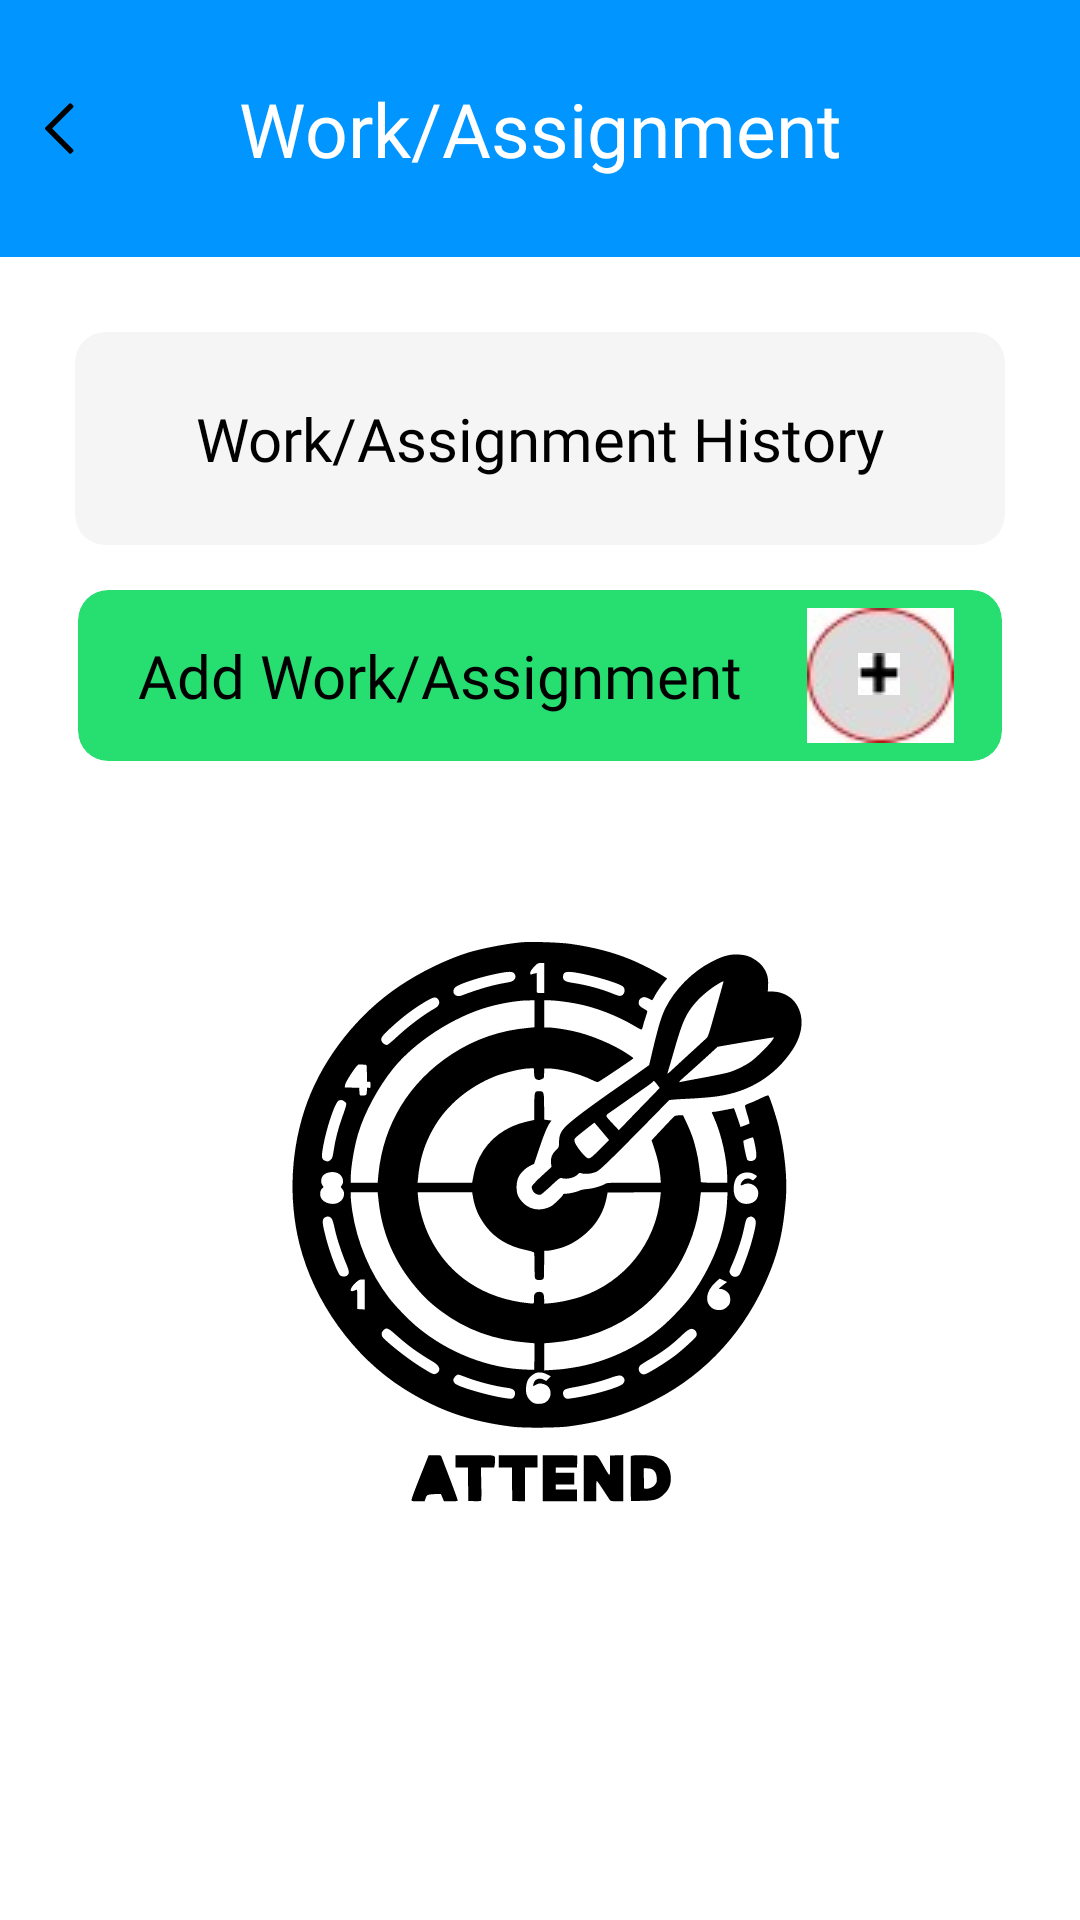

Icon click points for this 1080 × 1920 phone screenshot, format (x,y):
addsubj: (879,674)
back arrow: (59,128)
